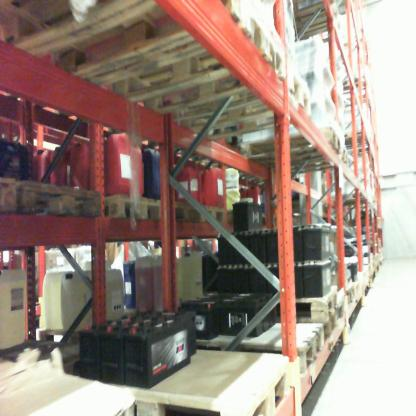pallet: (125, 37, 325, 143), (32, 7, 289, 84), (1, 3, 249, 67), (114, 347, 297, 413), (176, 318, 333, 372), (203, 283, 339, 331), (218, 128, 351, 167), (19, 179, 109, 223), (100, 188, 164, 229), (166, 187, 204, 231), (1, 169, 20, 221), (326, 289, 348, 333), (341, 281, 362, 315), (198, 208, 228, 229)
